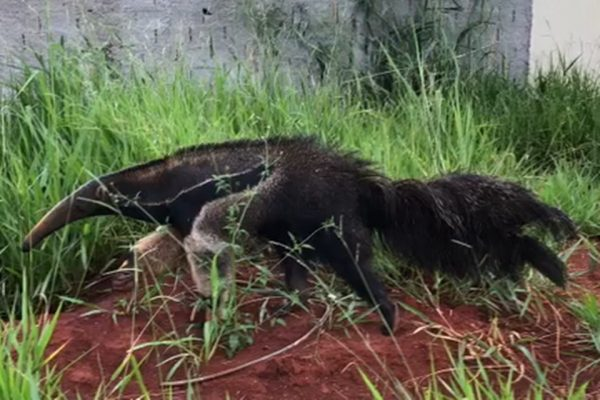TamanduaBandeira: (18, 132, 570, 335)
